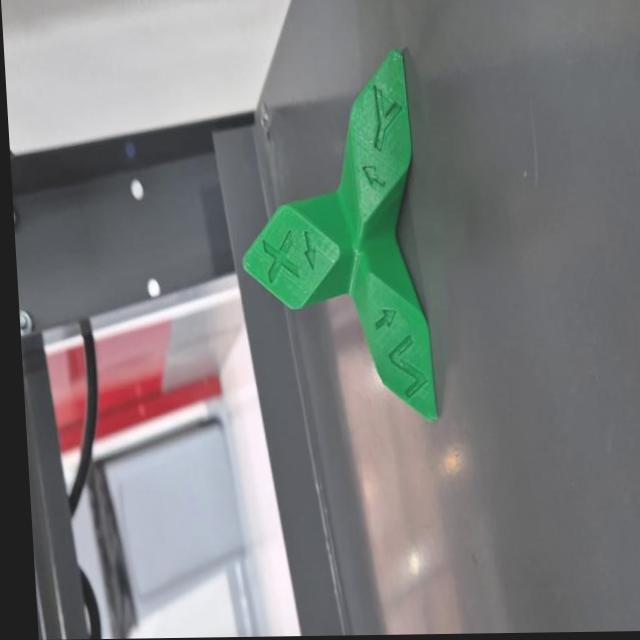eje: (223, 44, 445, 429)
